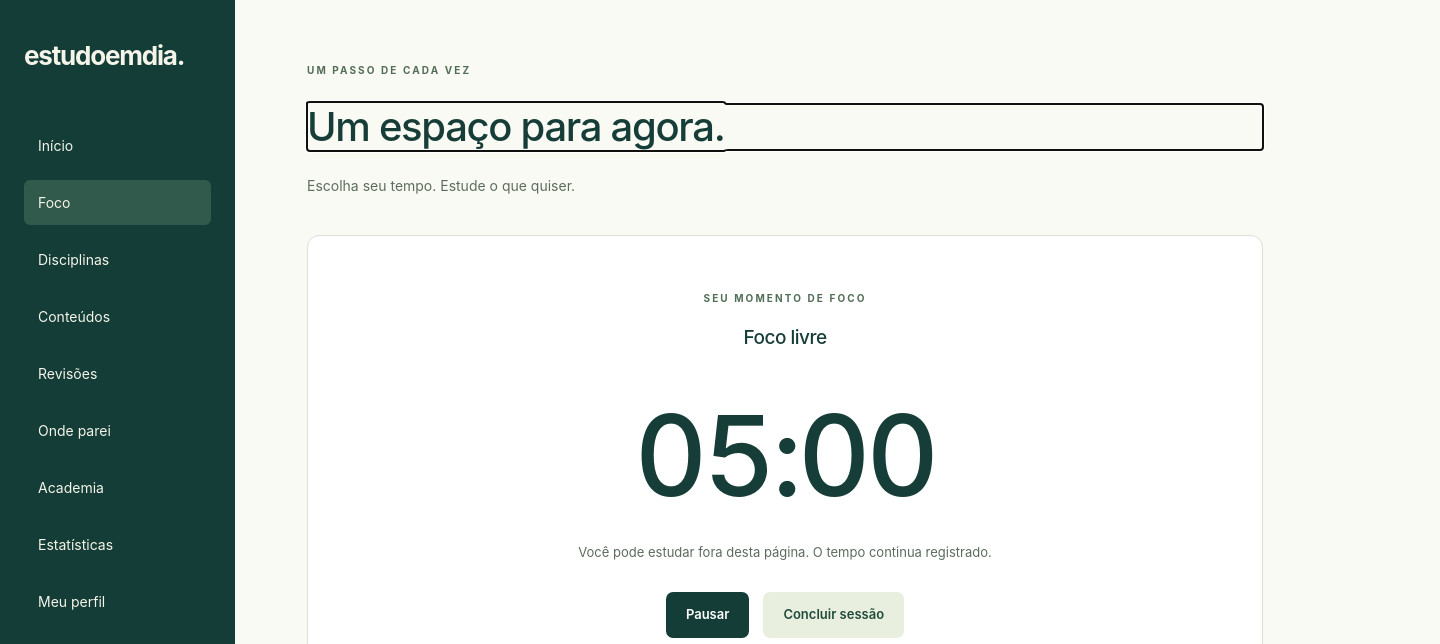
Test case: fluxo de foco › reenvio de conclusão reutiliza chave e corpo sem anunciar sucesso na falha
The width and height of the screenshot is (1440, 644).
Click the button "Concluir sessão" at (834, 615), box x1=763 y1=592 x2=904 y2=638
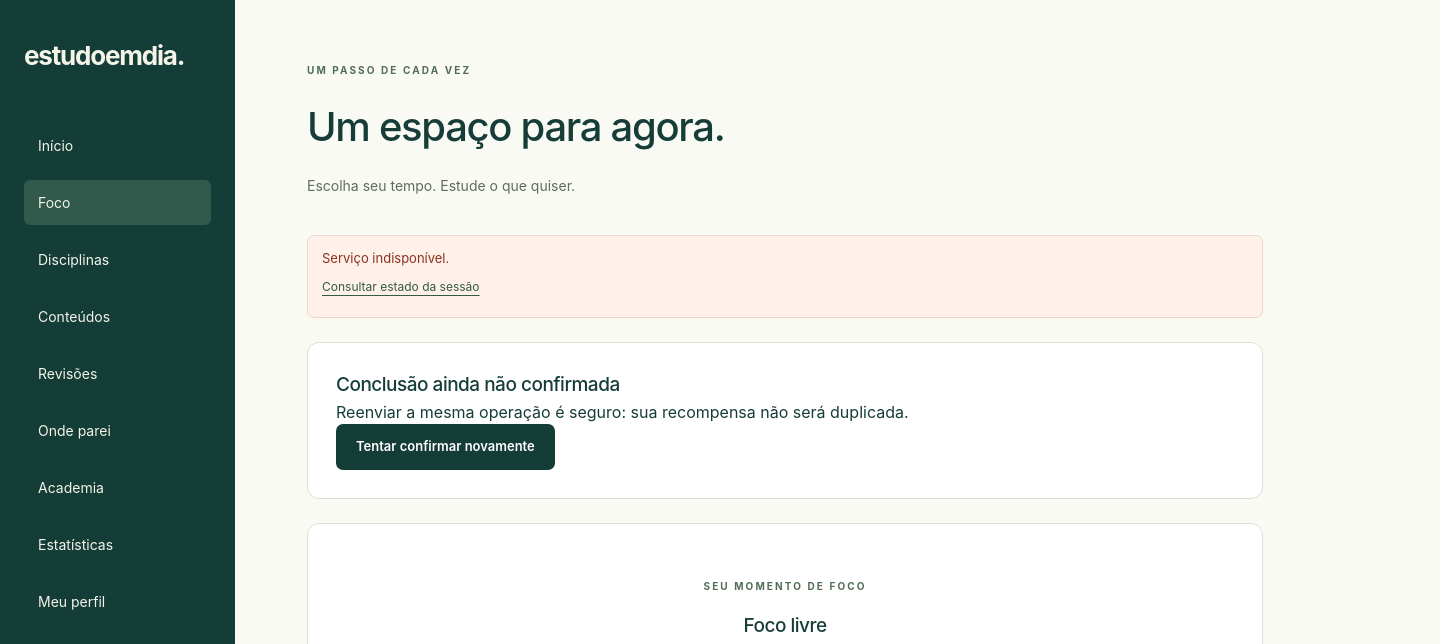
Check: the text "Mais um passo no seu caminho." is not shown
Check: the heading "Conclusão ainda não confirmada" is shown, box x1=336 y1=373 x2=620 y2=396
Click the button "Tentar confirmar novamente" at (445, 447), box x1=336 y1=424 x2=555 y2=470
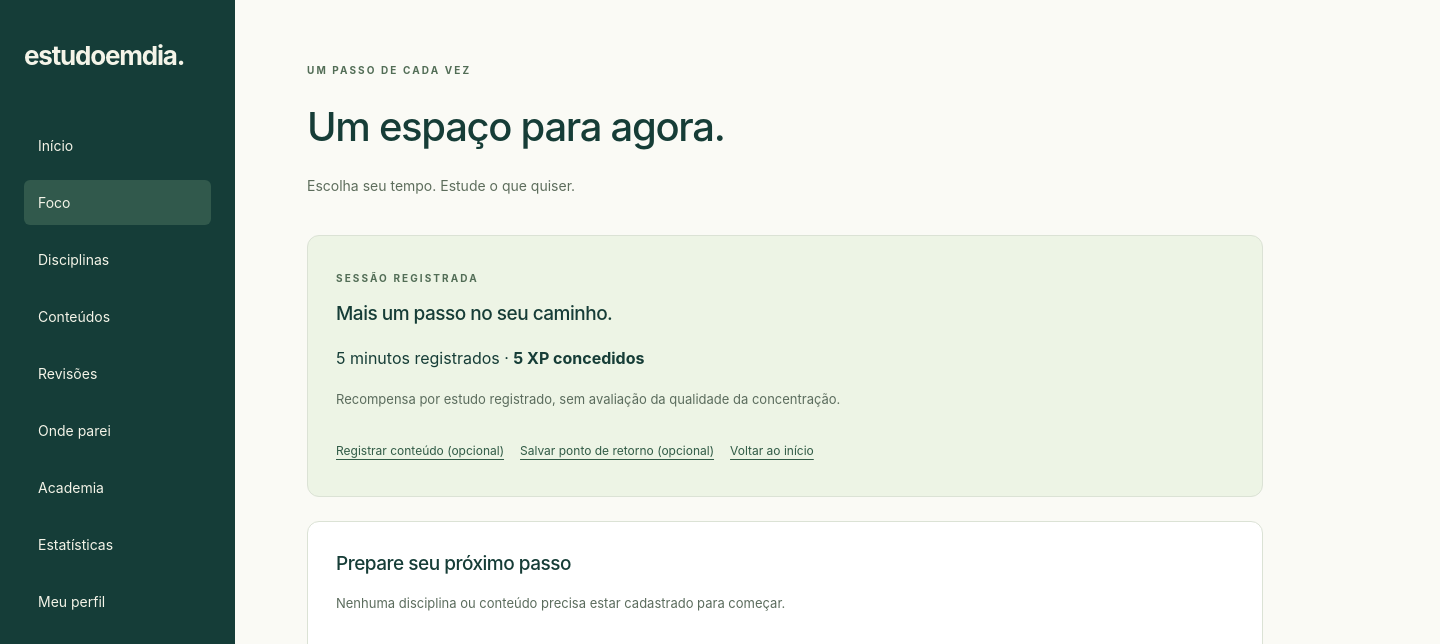
Check: the heading "Mais um passo no seu caminho." is shown, box x1=336 y1=302 x2=612 y2=325
